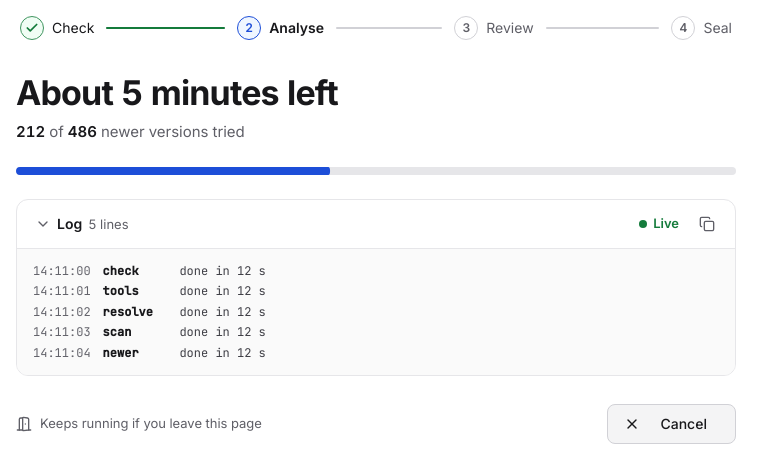
Test: a running analysis › shows Cancelling with its width kept
Click the button "Cancel" at x=672, y=424, box top-left (607, 404), bottom-right (736, 444)
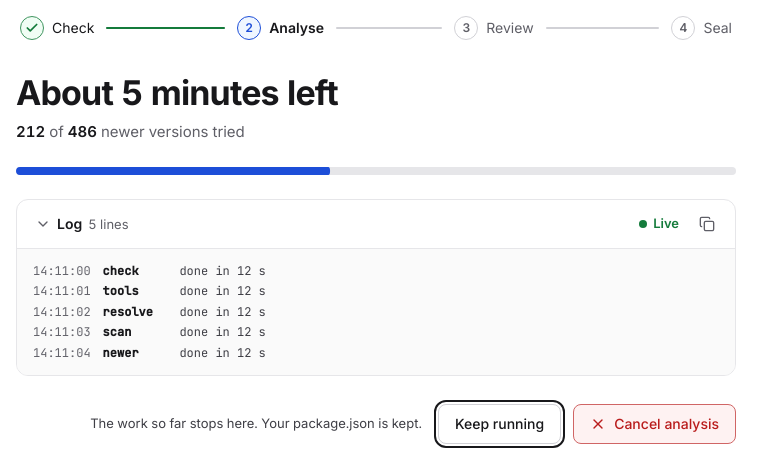
Click the button "Cancel analysis" at x=655, y=424, box top-left (573, 404), bottom-right (736, 444)
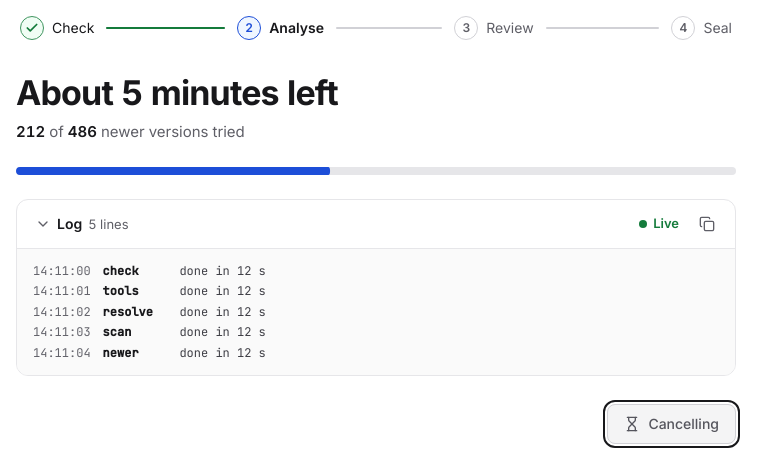
Expected: the text "Keeps running if you leave this page" is not shown
Expected: the button "Keep running" is gone
